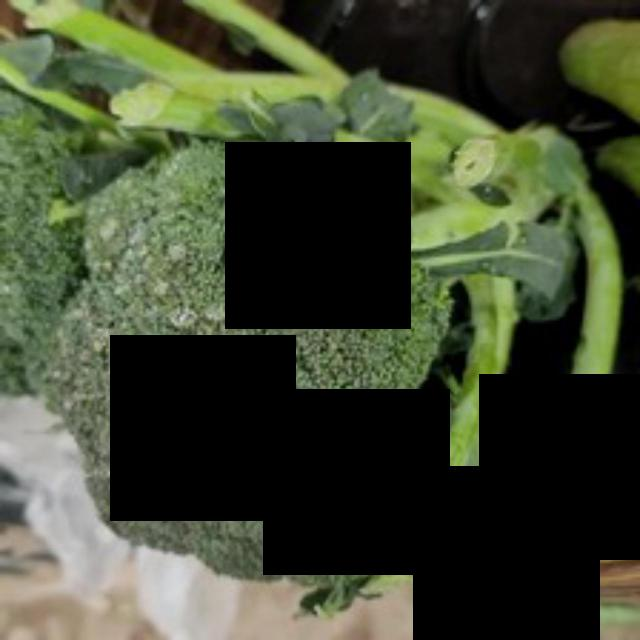broccoli: (44, 142, 478, 600)
